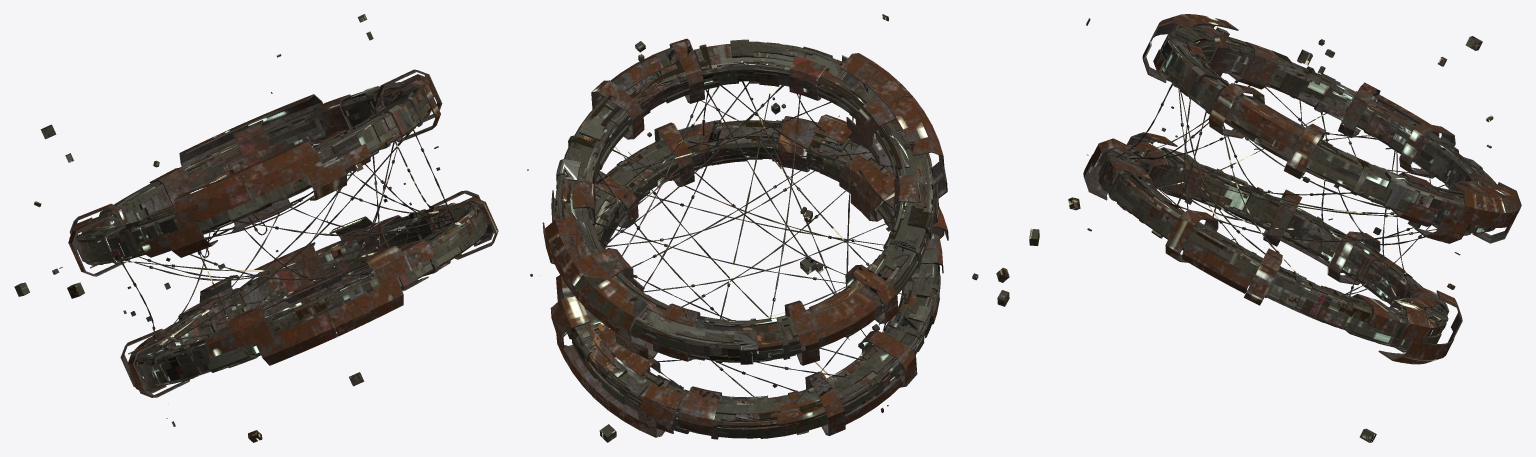
File: Sketchfab_Scene.gltf
The picture shows the model from 3 angles, left to right: view 1: azimuth 30°, elevation 25°; view 2: azimuth 150°, elevation 25°; view 3: azimuth 270°, elevation 25°; orthographic projection.
Parts seen in each view (by area): view 1: SpaceStation.005_low_5, SpaceStation.004_low_4, SpaceStation.007_low_7, SpaceStation.006_low_6, SpaceStation.002_low_2, SpaceStation_low_0, SpaceStation.003_low_3; view 2: SpaceStation.005_low_5, SpaceStation.007_low_7, SpaceStation.004_low_4, SpaceStation.006_low_6, SpaceStation.002_low_2, SpaceStation_low_0, SpaceStation.003_low_3; view 3: SpaceStation.005_low_5, SpaceStation.004_low_4, SpaceStation.006_low_6, SpaceStation.007_low_7, SpaceStation.002_low_2, SpaceStation_low_0, SpaceStation.003_low_3.
Part boxes in pixels (left/top/right/bottom): SpaceStation.005_low_5: left=68, top=69, right=442, bottom=276; SpaceStation.004_low_4: left=120, top=190, right=498, bottom=397; SpaceStation.007_low_7: left=76, top=81, right=432, bottom=266; SpaceStation.006_low_6: left=134, top=202, right=487, bottom=388; SpaceStation.002_low_2: left=120, top=129, right=459, bottom=350; SpaceStation_low_0: left=14, top=14, right=495, bottom=442; SpaceStation.003_low_3: left=133, top=148, right=446, bottom=329; SpaceStation.005_low_5: left=542, top=38, right=947, bottom=365; SpaceStation.007_low_7: left=555, top=39, right=935, bottom=364; SpaceStation.004_low_4: left=550, top=114, right=948, bottom=438; SpaceStation.006_low_6: left=567, top=119, right=940, bottom=439; SpaceStation.002_low_2: left=594, top=81, right=901, bottom=404; SpaceStation_low_0: left=527, top=14, right=1039, bottom=442; SpaceStation.003_low_3: left=604, top=103, right=869, bottom=386; SpaceStation.005_low_5: left=1142, top=14, right=1521, bottom=243; SpaceStation.004_low_4: left=1083, top=132, right=1462, bottom=364; SpaceStation.006_low_6: left=1098, top=145, right=1448, bottom=349; SpaceStation.007_low_7: left=1160, top=27, right=1497, bottom=233; SpaceStation.002_low_2: left=1116, top=82, right=1445, bottom=310; SpaceStation_low_0: left=1068, top=18, right=1493, bottom=442; SpaceStation.003_low_3: left=1131, top=80, right=1421, bottom=295.
Size of the model in its own units: 7.36 by 6.14 by 6.5.
3 materials, 3 textured.
